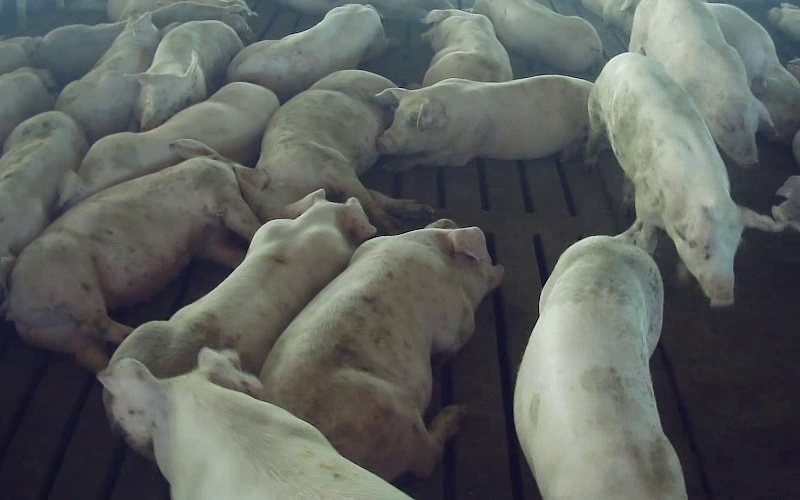pig: (261, 220, 502, 479), (7, 141, 259, 371), (111, 190, 374, 376), (588, 53, 781, 305), (100, 348, 409, 499), (515, 236, 686, 499), (237, 70, 429, 229), (62, 82, 278, 207), (629, 0, 770, 166), (377, 75, 591, 169), (0, 111, 87, 307), (227, 4, 387, 101), (55, 13, 160, 142), (134, 20, 242, 130), (473, 0, 601, 72), (422, 9, 512, 86)
